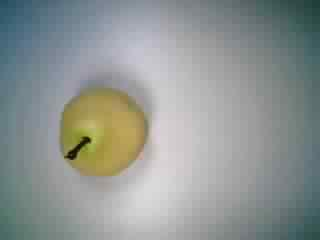pear: (46, 79, 155, 181)
